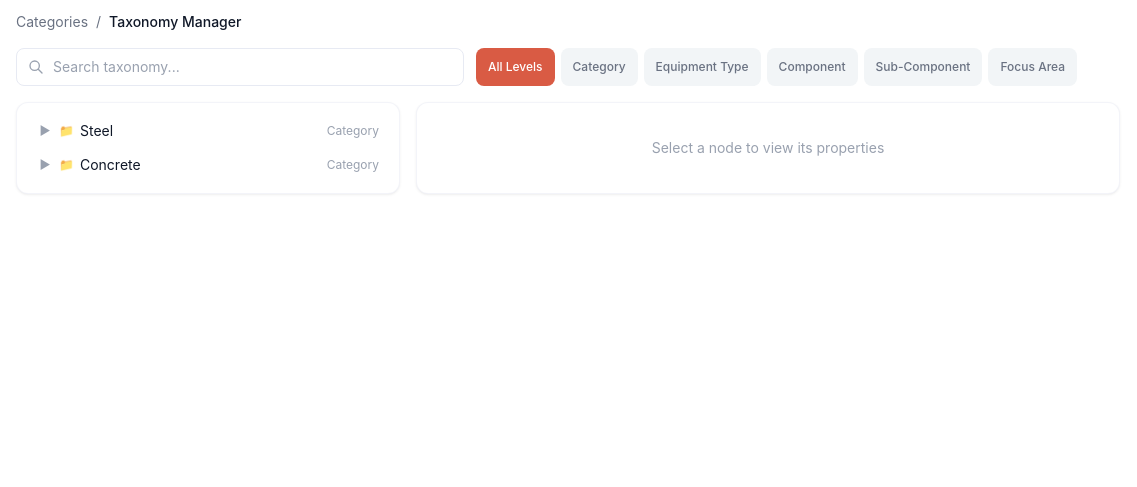
Test case: TaxonomyManagerPage — integration › shows properties panel when a node is selected
Click the text "Steel".
click(97, 130)  # box [80, 122, 113, 139]
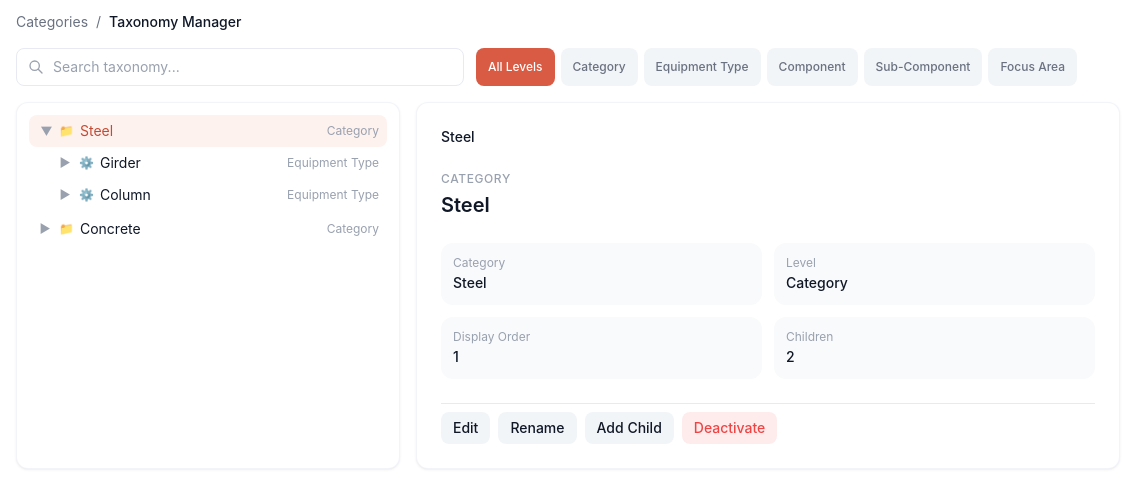
Result: the button "Rename" is shown at [498, 412, 576, 444]
Result: the button "Add Child" is shown at [584, 412, 674, 444]
